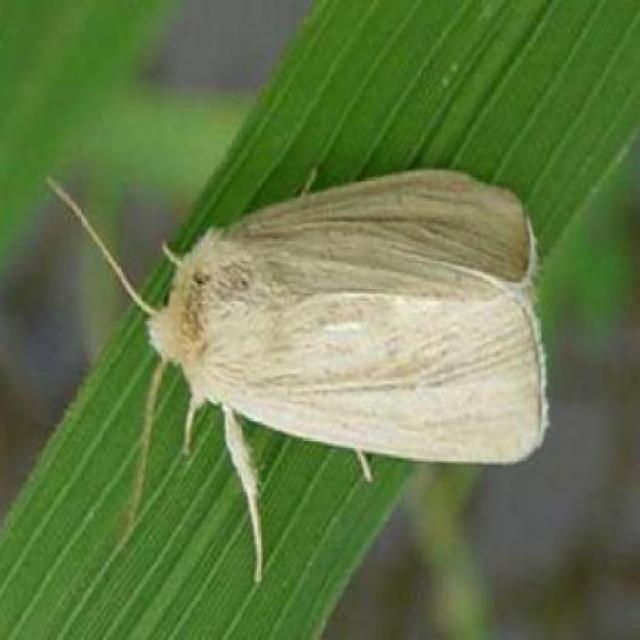stem-borer: (84, 160, 554, 540)
